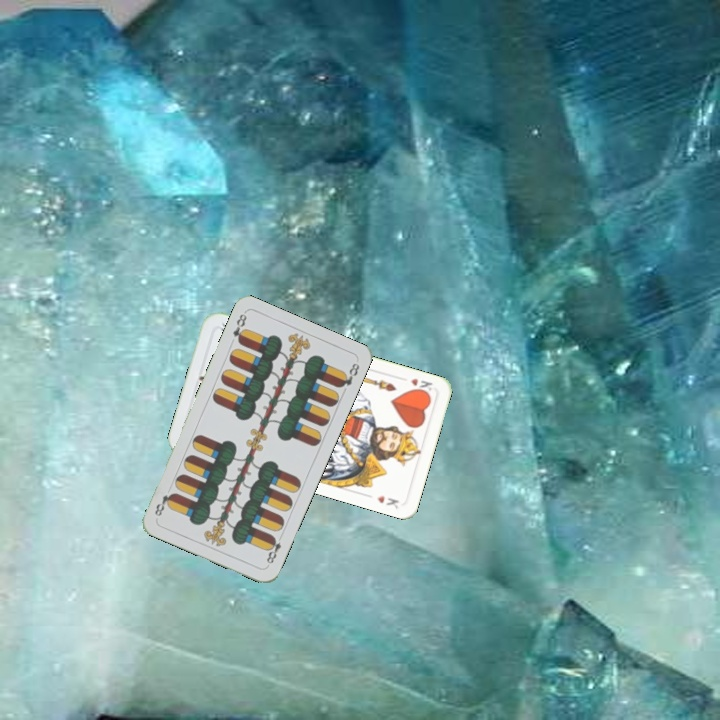E8: (262, 530, 285, 568), (229, 309, 249, 346)
HK: (407, 374, 435, 396)
